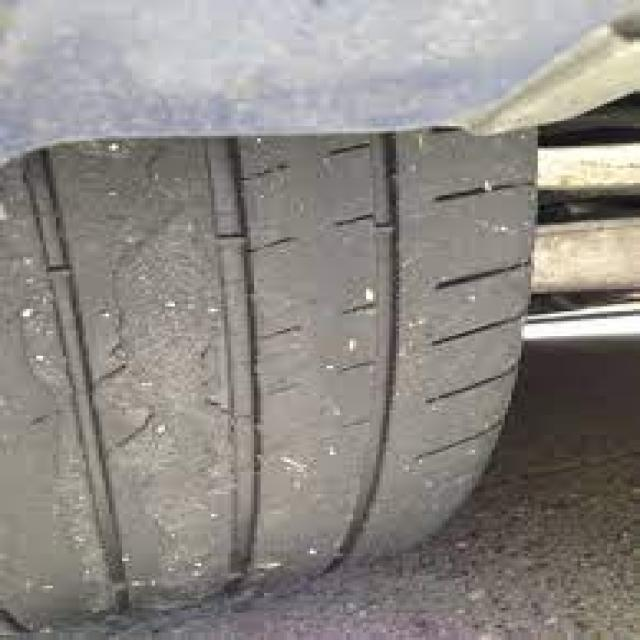Flat spots: (0, 156, 425, 539)
